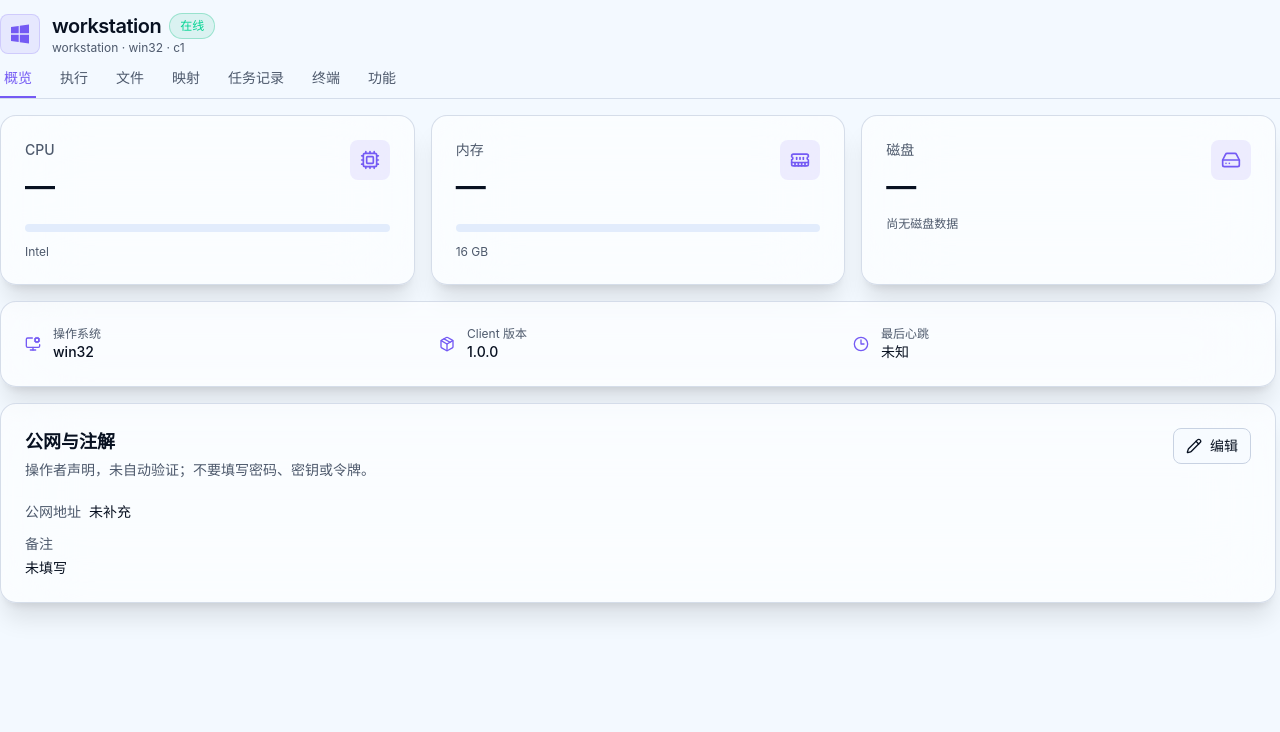
MachineWorkspace 名称双击编辑 › 双击名称进入编辑态，回车保存新别名
Double-click the heading "workstation" at x=107, y=26, box [52,12,161,40]
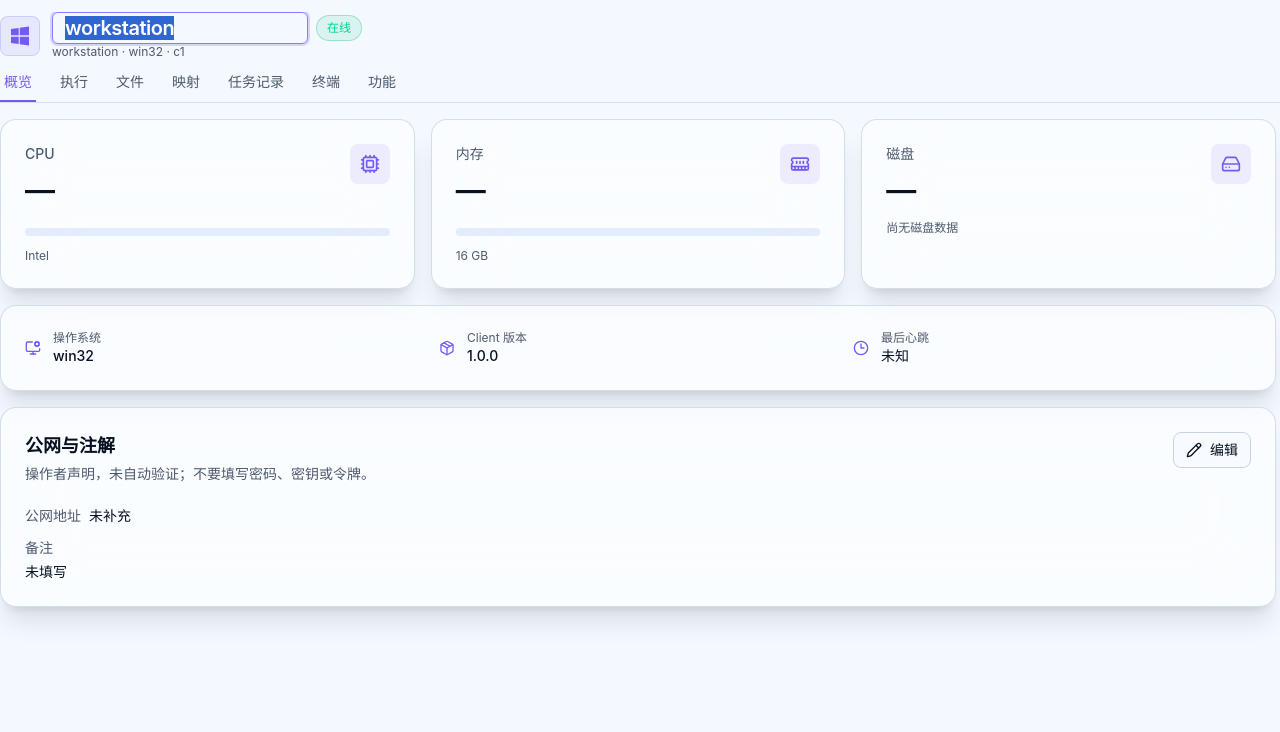
Now the field named "机器名称" holds "workstation"
Replace the text in the field named "机器名称" with "我的NAS" at x=180, y=28, box [52,12,308,44]
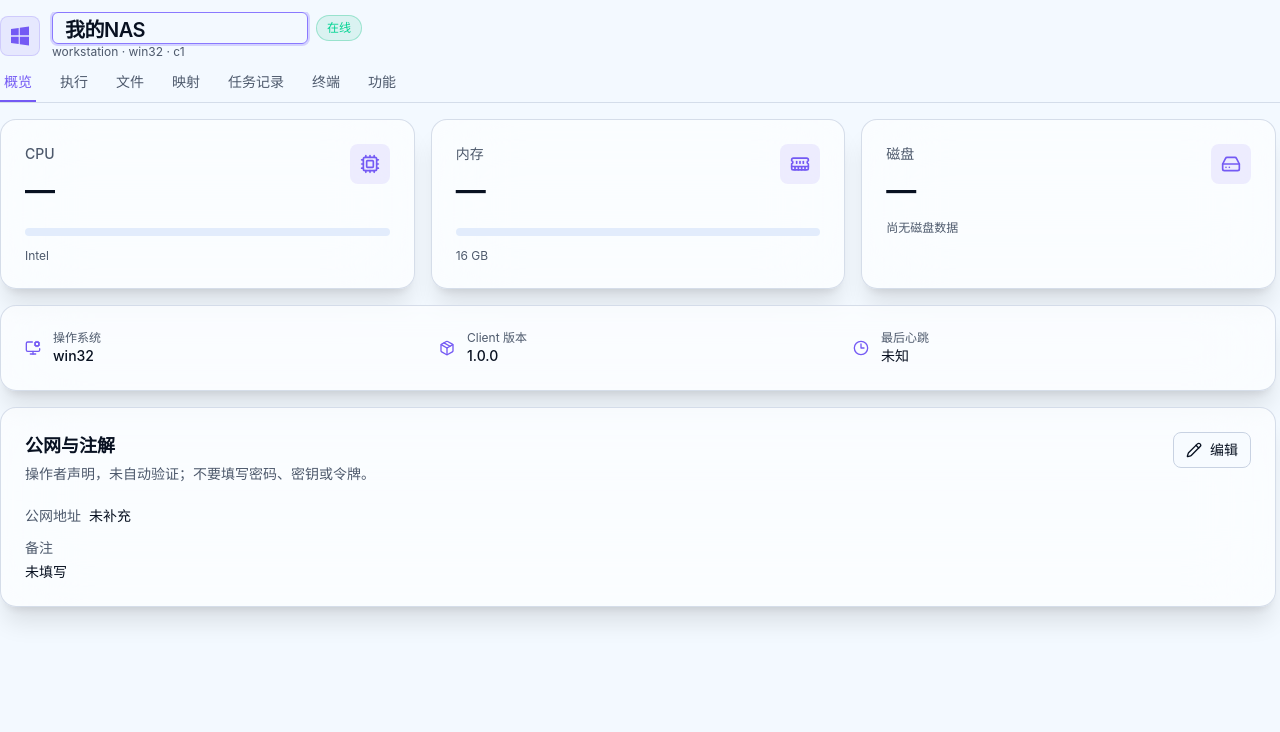
Press Enter in the field named "机器名称", box [52,12,308,44]
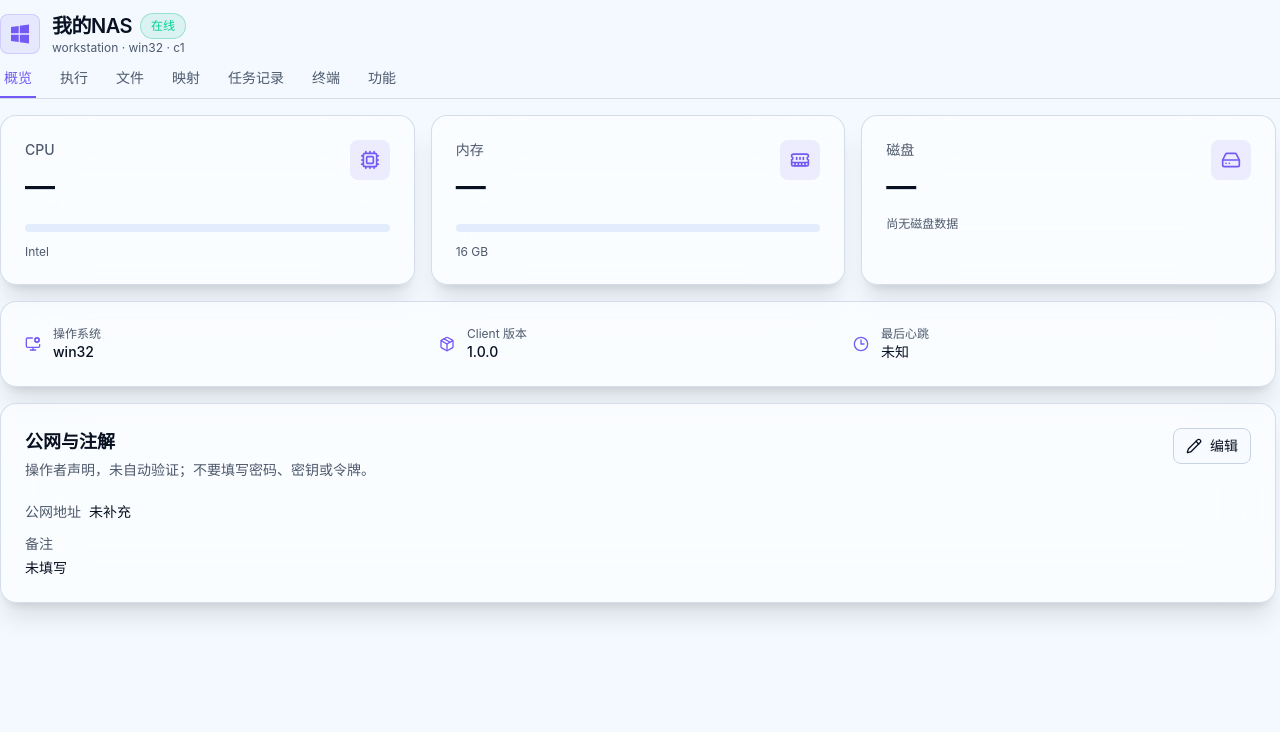
Now the heading "我的NAS" is shown, box [52,12,132,40]
Now the field labelled "机器名称" is gone
